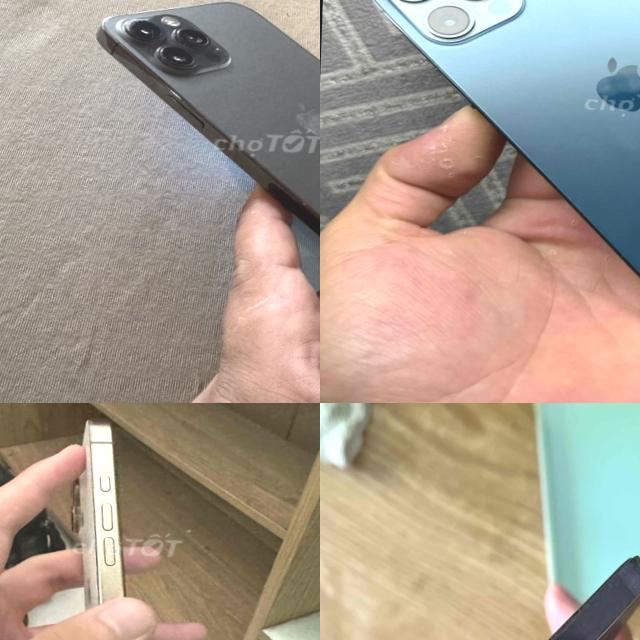gen_12_13: (351, 0, 640, 338), (82, 0, 320, 322)
gen_14: (422, 542, 640, 640)
gen_16: (46, 403, 180, 640)
